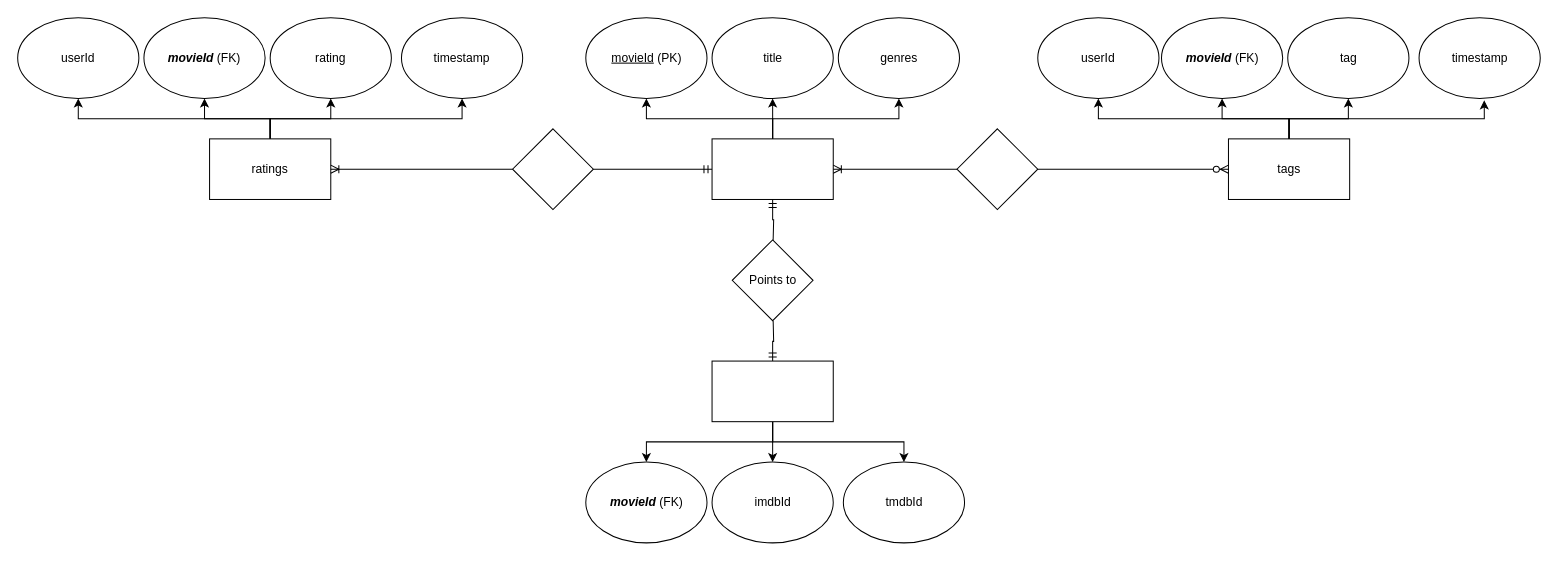
This 1558x561 diagram has some shape labels left out. Each missing label, with the centre of its shape:
Describes: the point at 997,169
links: the point at 772,391
movies: the point at 772,168
Ranks: the point at 552,169
